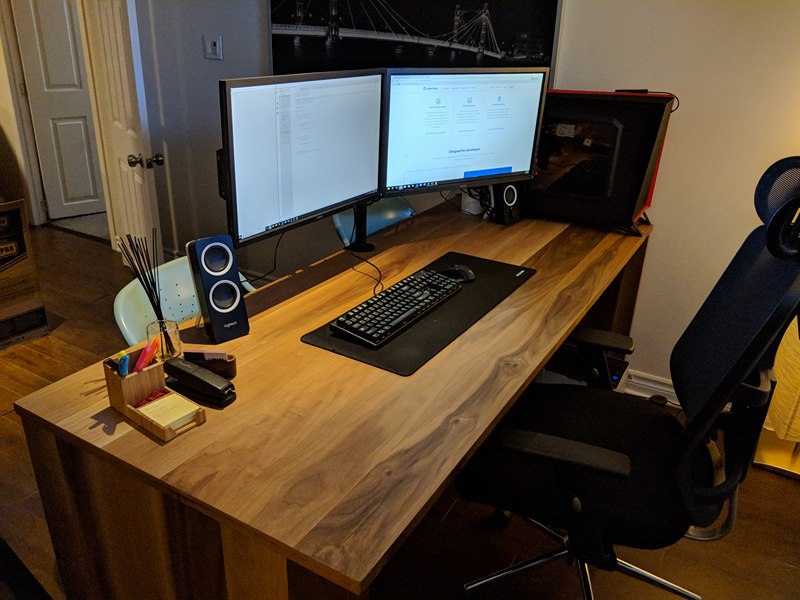Chair (Generic): (459, 155, 799, 598)
Decoration (Generic): (94, 227, 237, 444)
Decoration (Picture): (263, 1, 565, 89)
Desk (Generic): (12, 201, 655, 599)
Desktop (Windows): (520, 88, 674, 234)
External Speakers (Generic): (185, 234, 250, 343), (494, 182, 524, 224)
Keyboard (Generic): (329, 269, 462, 350)
Monitor (Landscape): (218, 68, 382, 246), (381, 66, 550, 199)
Mouse (Generic): (444, 263, 477, 283)
Mousepad (Gaming): (300, 249, 537, 376)
